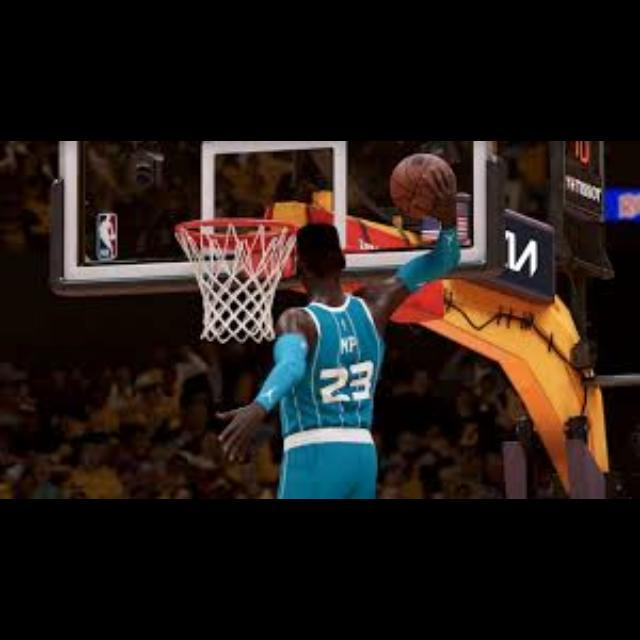basketball: (388, 151, 456, 219)
rim: (172, 220, 296, 340)
